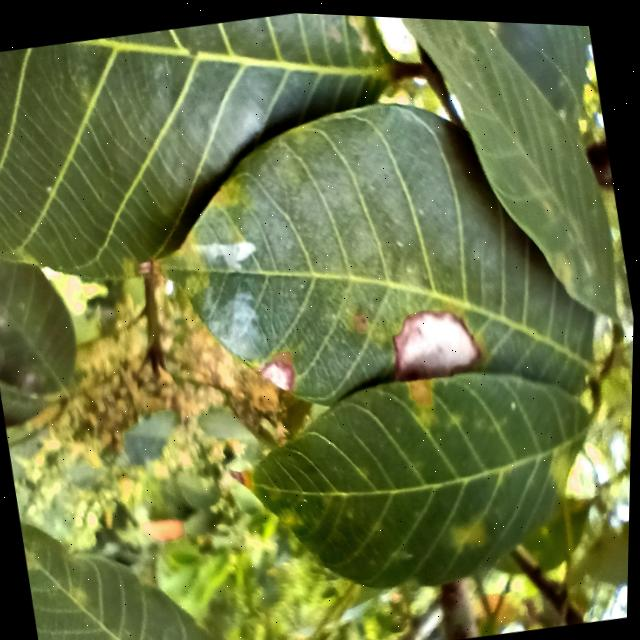Leaf-Blight: (389, 301, 481, 379), (259, 356, 297, 393)
